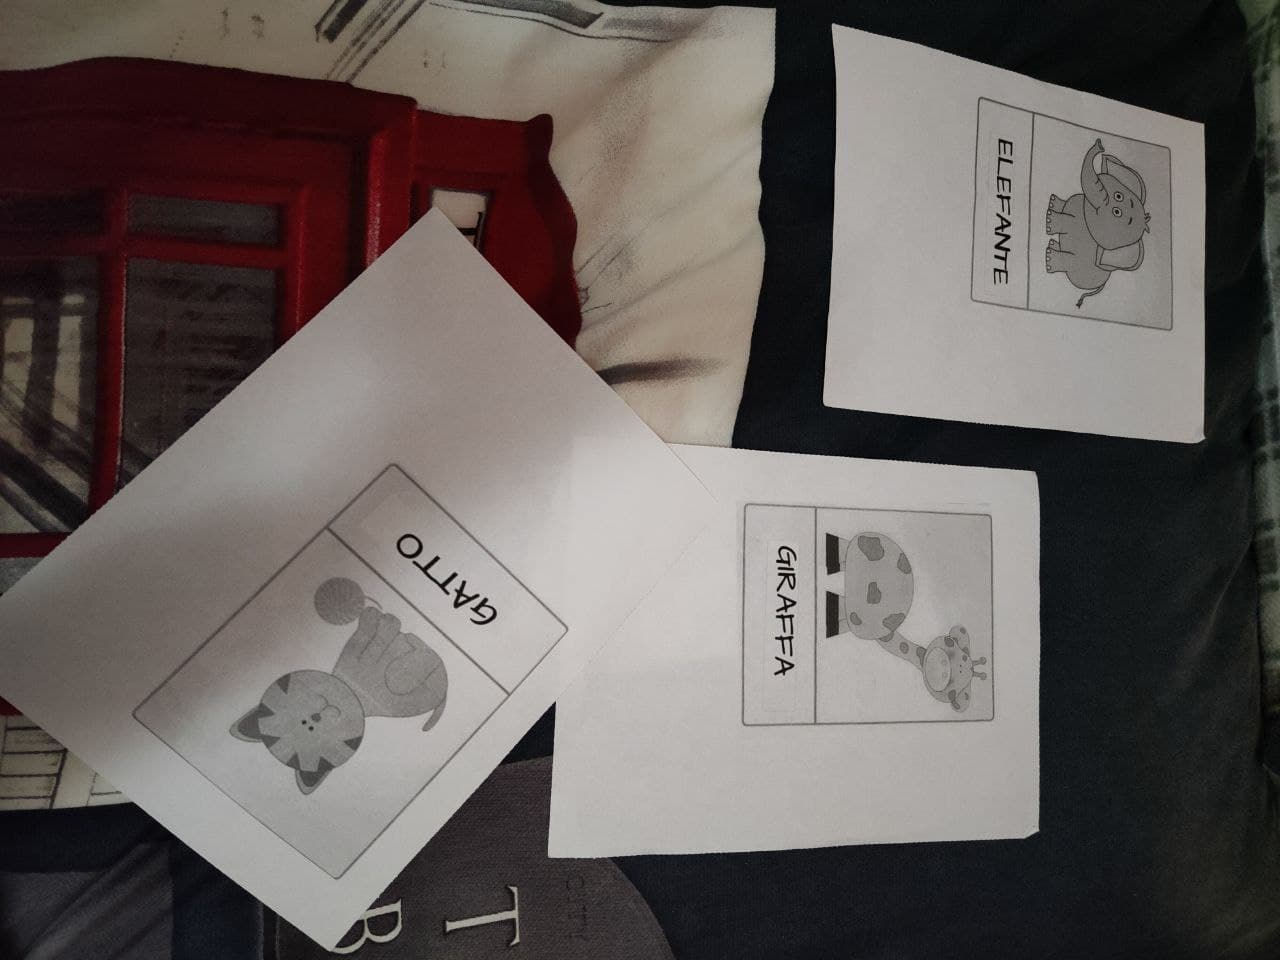elefante: (973, 106, 1178, 325)
gatto: (221, 516, 512, 800)
giraffa: (747, 509, 1005, 723)
